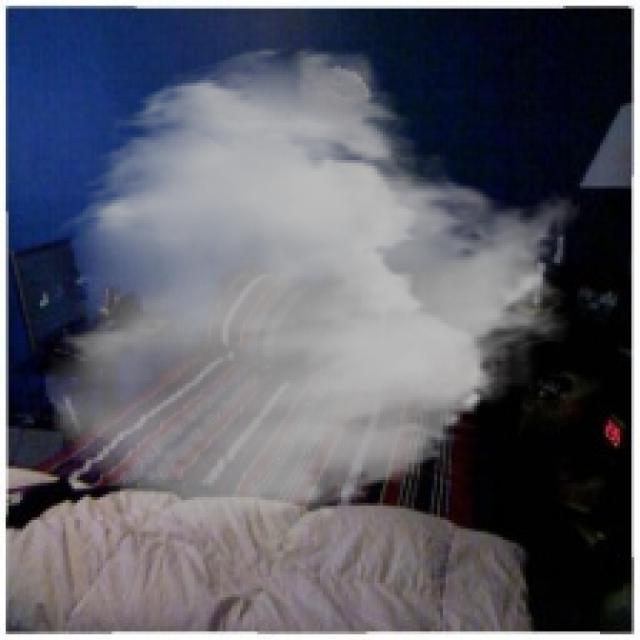Smoke: (40, 43, 583, 563)
